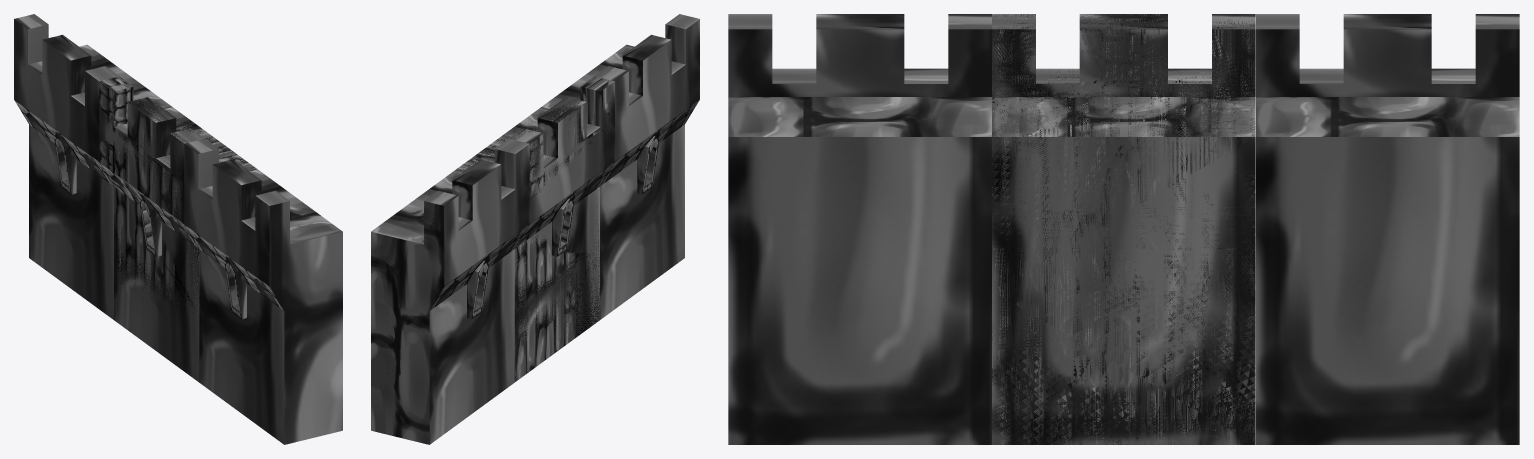
File: Tower2.3 (wallOnly).fbx
3 renders of one model, left to right at view 1: azimuth 30°, elevation 25°; view 2: azimuth 150°, elevation 25°; view 3: azimuth 270°, elevation 25°, orthographic. The views are drawn at different scales.
Parts seen in each view (by area): view 1: Fortress wall.002, Fortress wall.001, Fortress wall, Fortress wall.003; view 2: Fortress wall.001, Fortress wall.002, Fortress wall, Fortress wall.003; view 3: Fortress wall.001, Fortress wall.002, Fortress wall, Fortress wall.003.
Boxes of the visible parts, x1=… form: Fortress wall.002: x1=184, y1=138, x2=342, y2=444; Fortress wall.001: x1=14, y1=14, x2=171, y2=319; Fortress wall: x1=99, y1=83, x2=255, y2=382; Fortress wall.003: x1=99, y1=76, x2=257, y2=323; Fortress wall.001: x1=371, y1=138, x2=529, y2=444; Fortress wall.002: x1=542, y1=14, x2=699, y2=319; Fortress wall: x1=457, y1=79, x2=614, y2=350; Fortress wall.003: x1=456, y1=76, x2=611, y2=382; Fortress wall.001: x1=1256, y1=14, x2=1519, y2=444; Fortress wall.002: x1=728, y1=14, x2=991, y2=444; Fortress wall: x1=992, y1=14, x2=1255, y2=444; Fortress wall.003: x1=992, y1=14, x2=1255, y2=444.
Size of the model in its own units: 349 by 1100 by 2100.
Materials: 10 (10 with a texture image).
